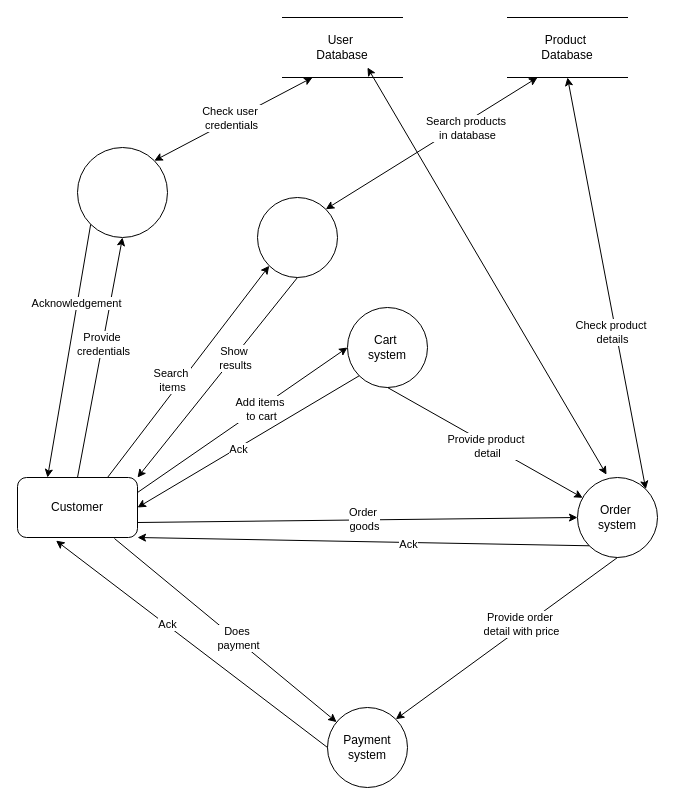
The diagram is 675 pixels wide and 805 high, and some of its shapes have lost their labels. Here are the shapes that lost their labels. From the top down, the centre of each, then its label:
At [122,192]: "Authentication".
At [297,237]: "Search system".
